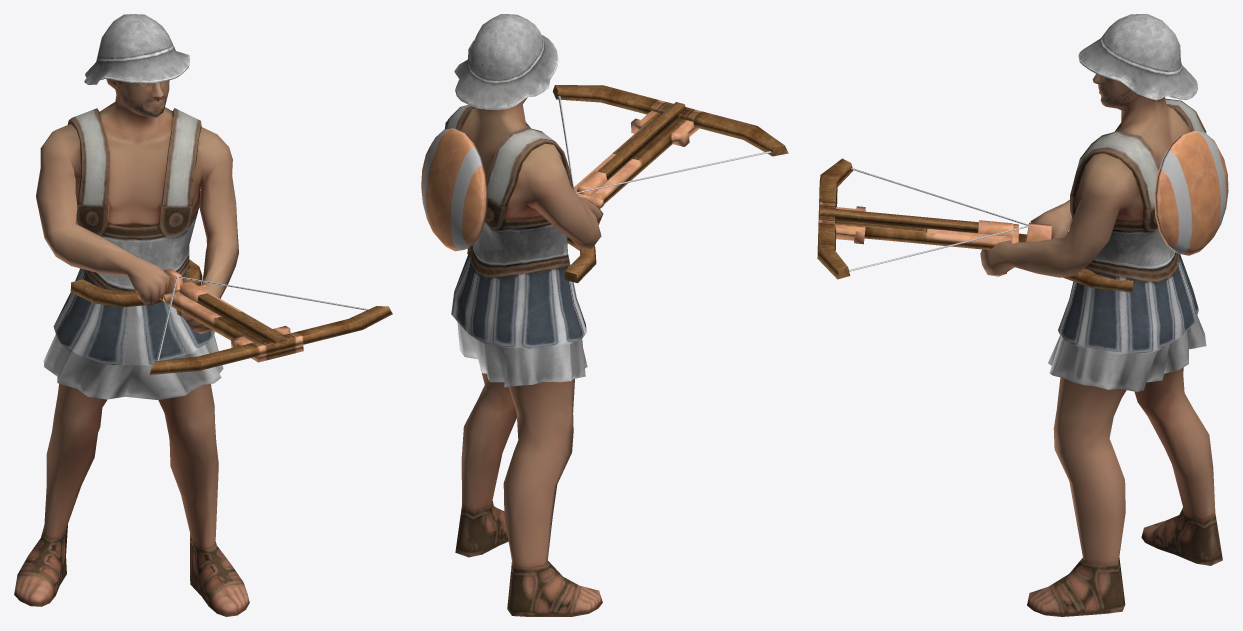
File: 37-gastraphetoros.glb
3 views of the same model, side by side, from view 1: azimuth 30°, elevation 25°; view 2: azimuth 150°, elevation 25°; view 3: azimuth 270°, elevation 25° (orthographic).
Size of the model in its own units: 0.9364 by 2.1 by 1.38.
Materials: 4 (4 with a texture image).
